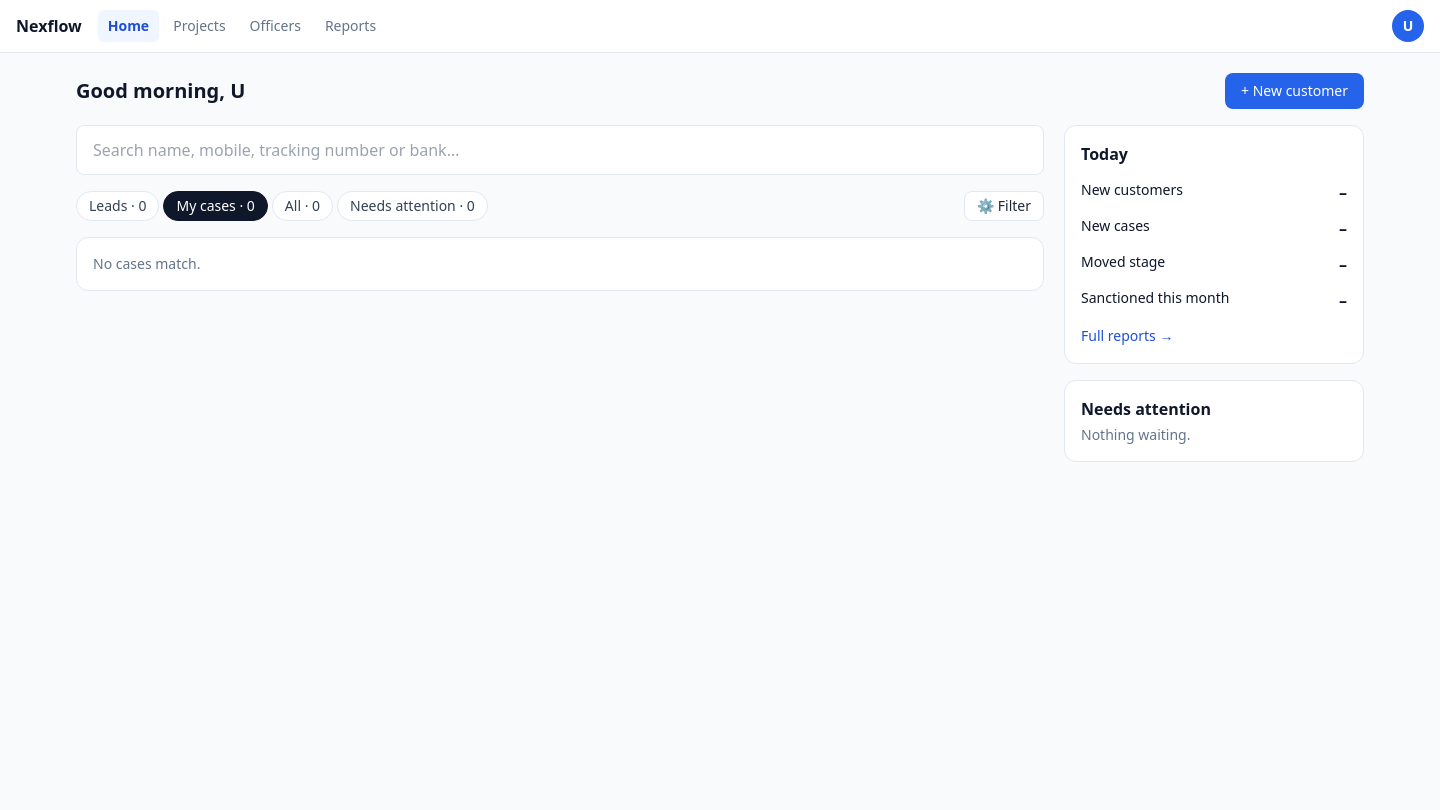
Test: ended sessions › a wrong current password does not sign the person out
Click the button named "Account": (1408, 26) x1=1392 y1=10 x2=1424 y2=42
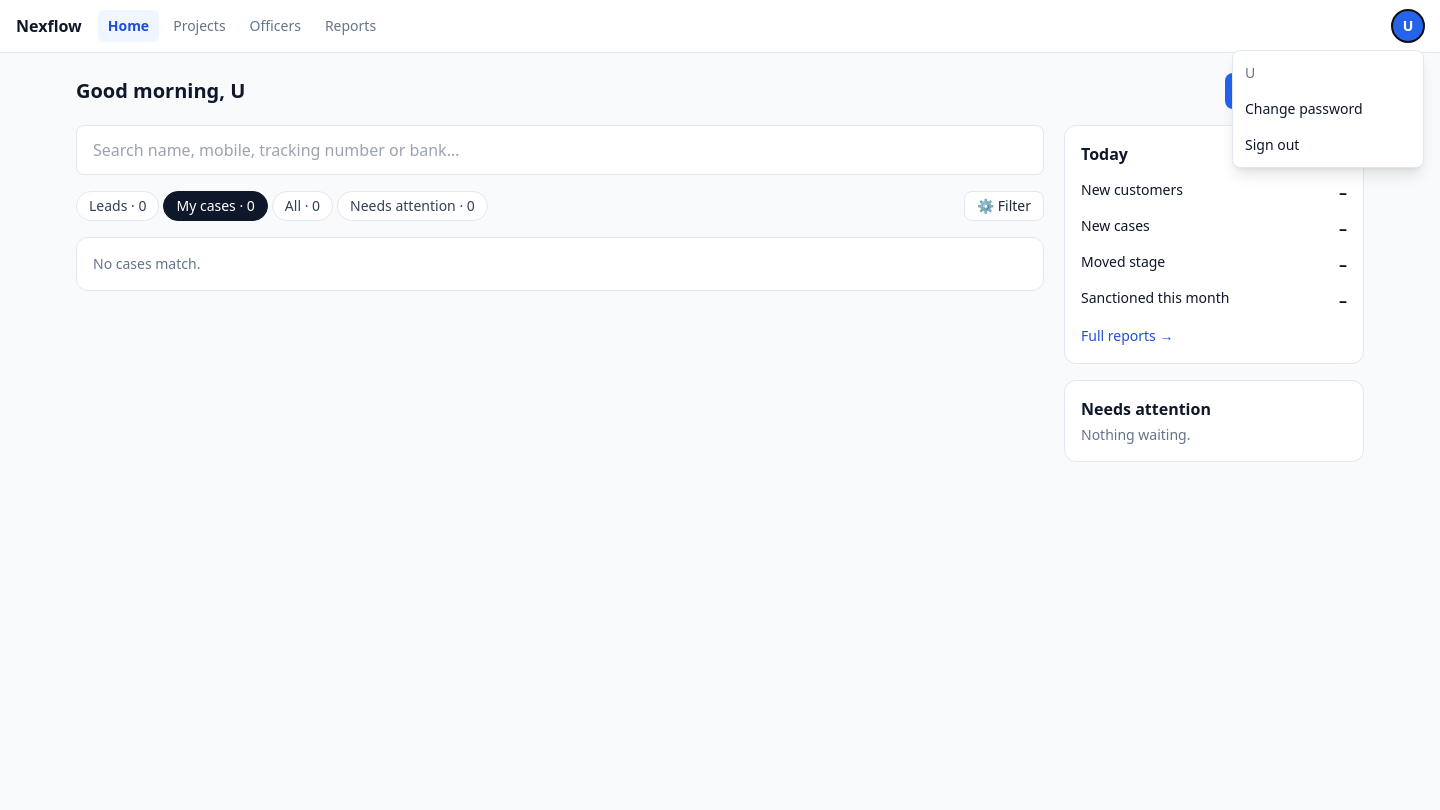
Click the button "Change password": (1328, 109) x1=1233 y1=91 x2=1423 y2=127
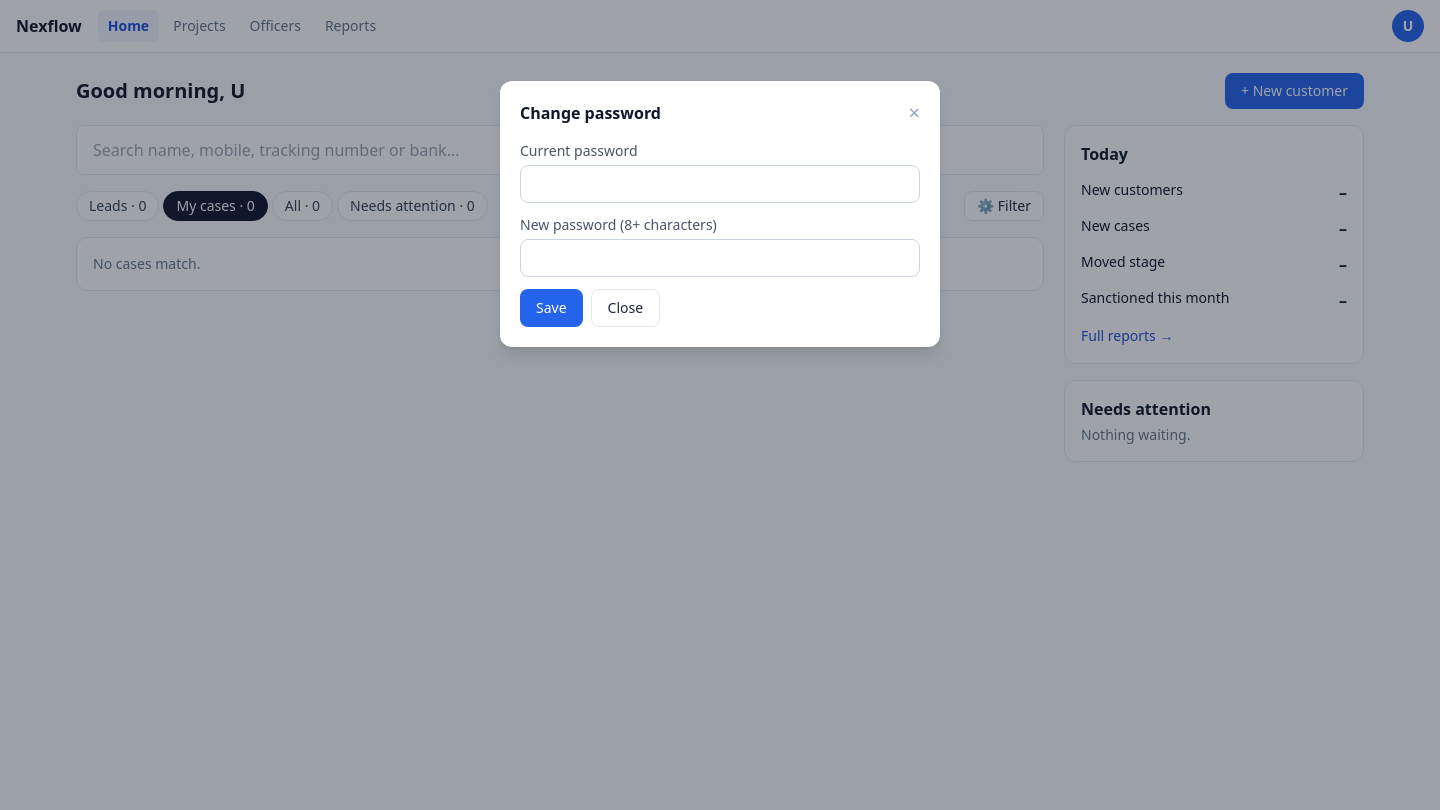
In the password field labelled "Current password": (720, 184) x1=520 y1=165 x2=920 y2=203, type "wrong-password"
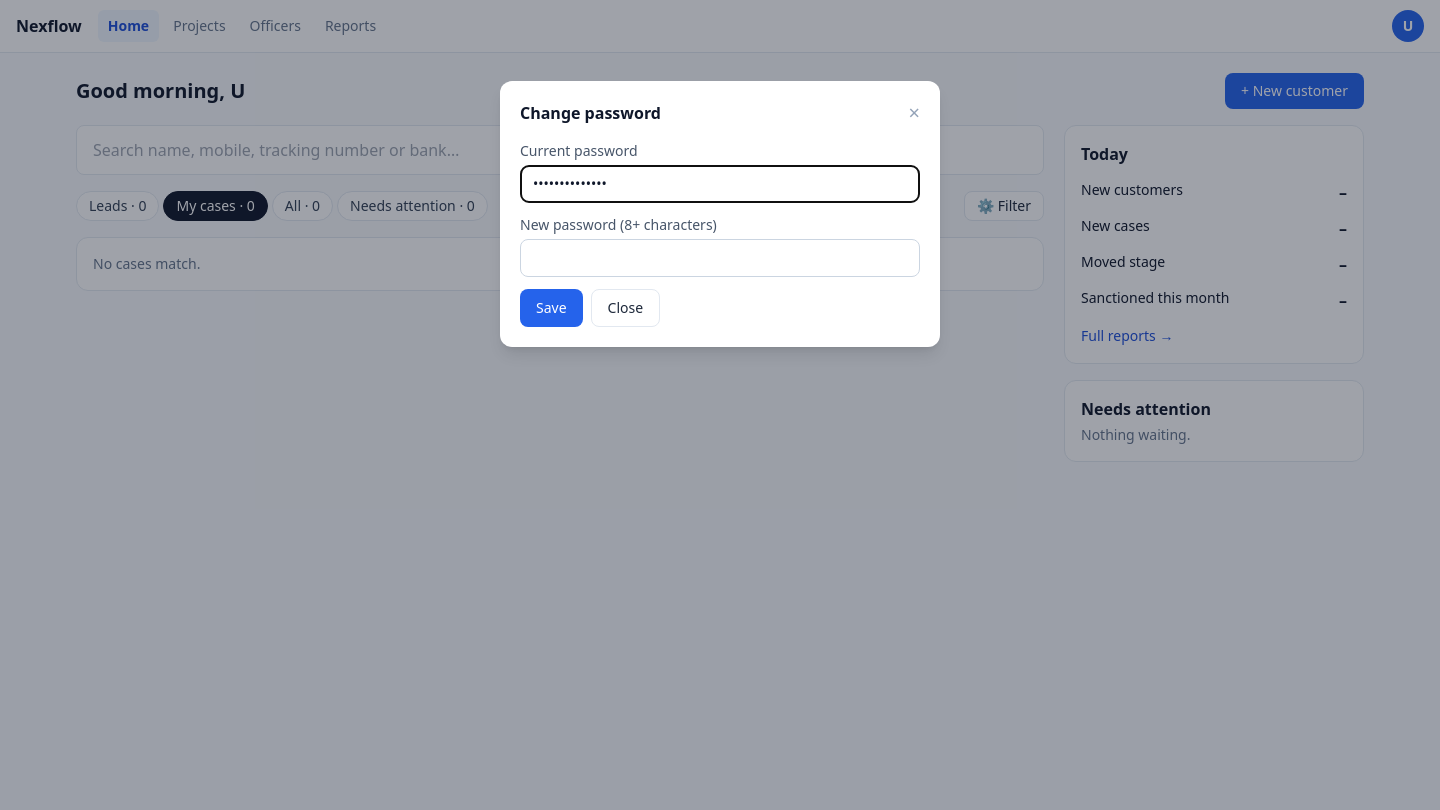
In the password field labelled "New password (8+ characters)": (720, 258) x1=520 y1=239 x2=920 y2=277, type "new-password-1"
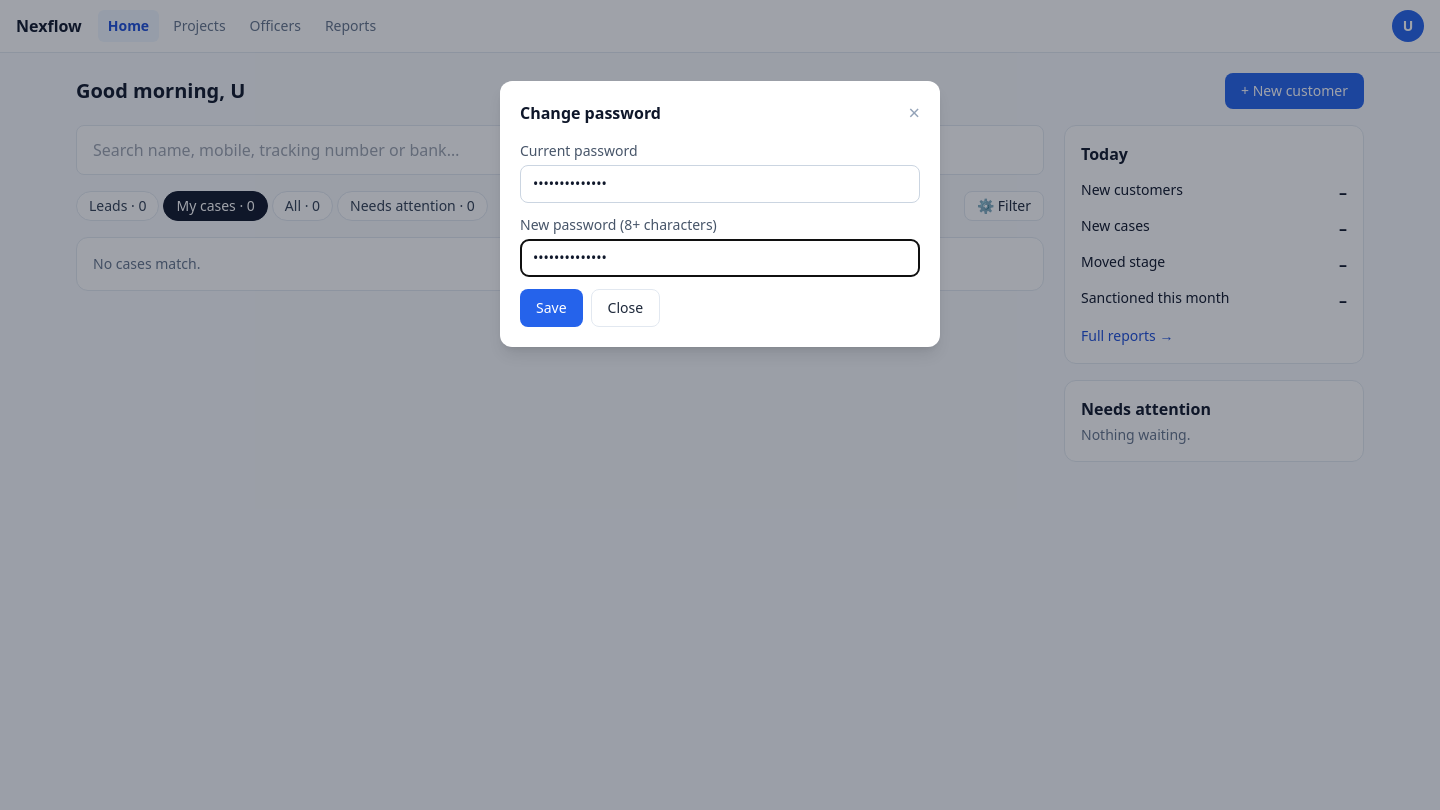
Click the button "Save": (551, 308) x1=520 y1=289 x2=583 y2=327
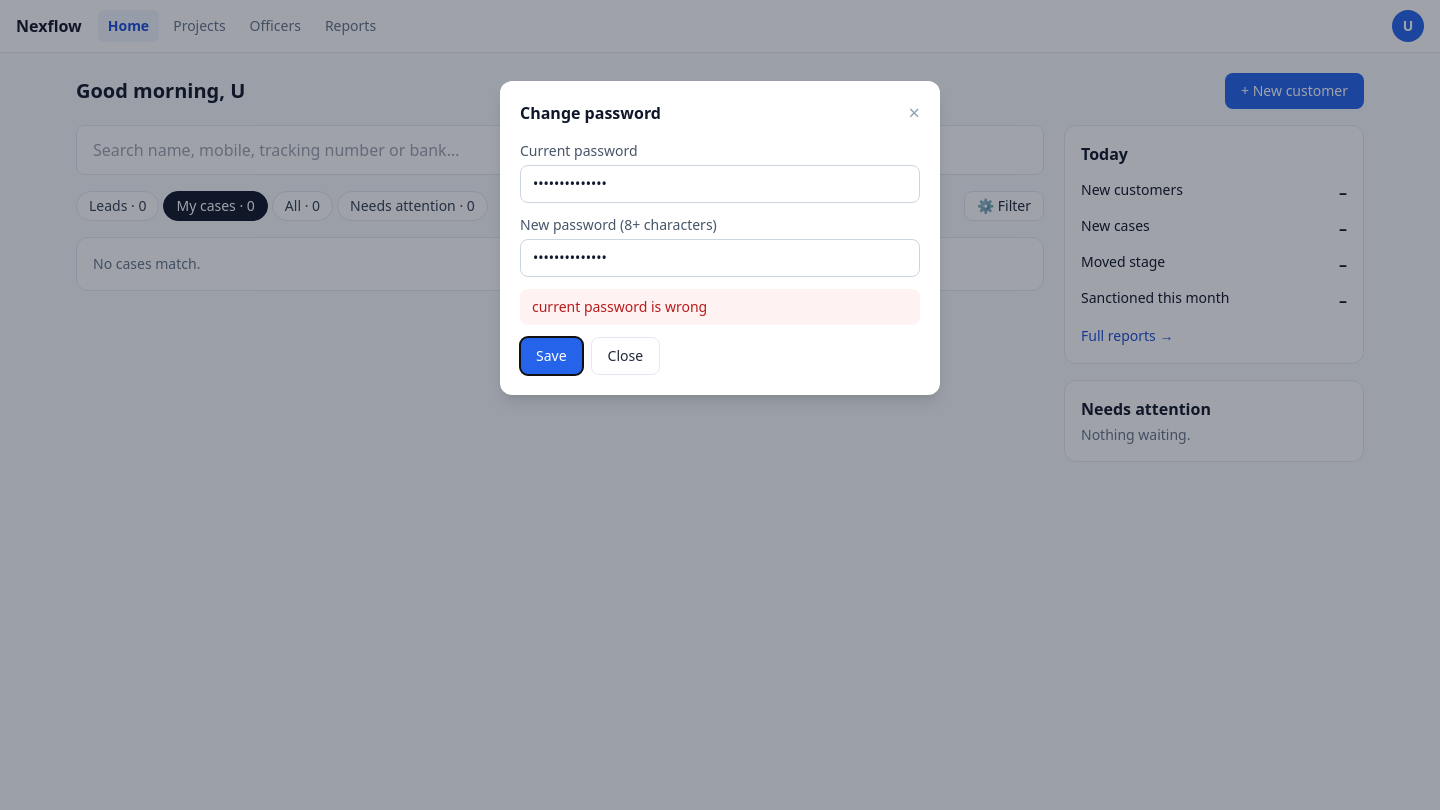
Expected: the message reads "current password is wrong", x1=532 y1=297 x2=707 y2=316
